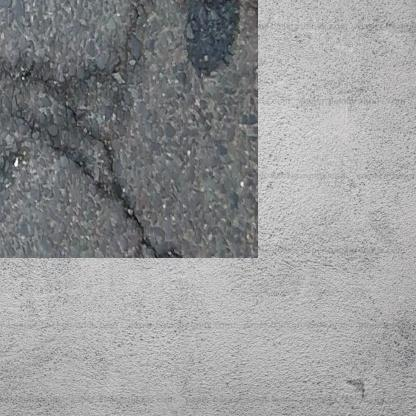Cracks: (22, 93, 167, 238)
